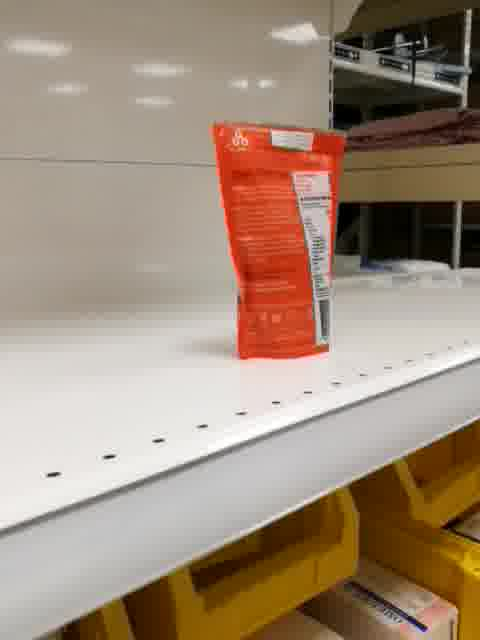whitechia: (207, 117, 351, 364)
